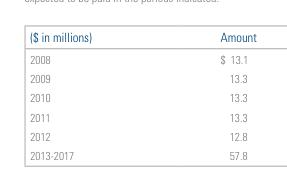table: (29, 29, 255, 161)
table column: (29, 29, 155, 161), (155, 29, 255, 161)
table column header: (29, 29, 255, 48)
table row: (29, 48, 255, 68), (29, 125, 255, 145), (29, 29, 255, 48), (29, 68, 255, 87), (29, 87, 255, 106), (29, 106, 255, 125), (29, 145, 255, 161)
